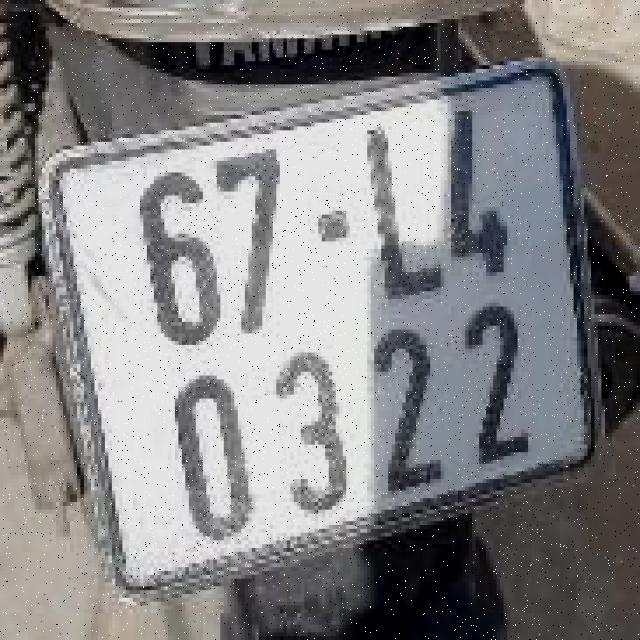0: (162, 354, 260, 562)
2: (364, 303, 458, 521), (464, 291, 554, 502)
3: (257, 328, 352, 523)
4: (439, 75, 512, 301)
6: (130, 146, 234, 352)
7: (210, 120, 301, 354)
L: (342, 96, 440, 318)
